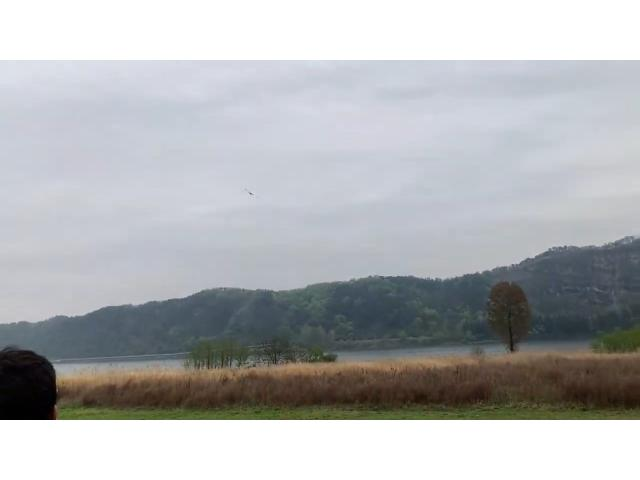Anti-Drone: (222, 172, 274, 205)
